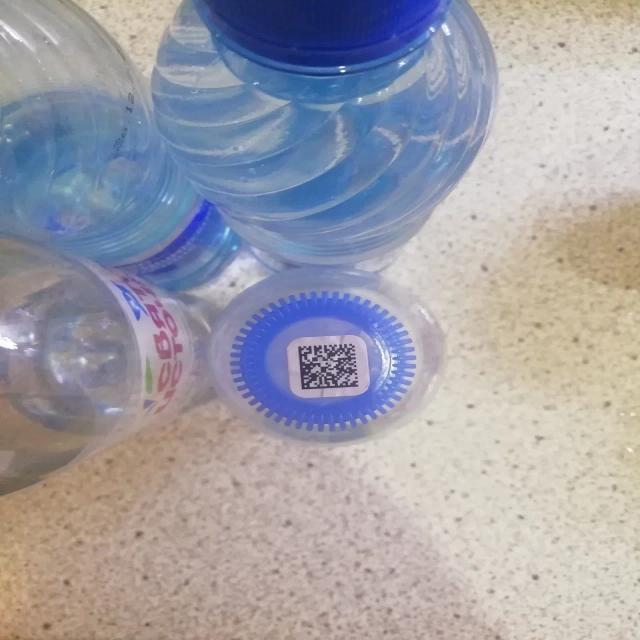datamatrix: (298, 342, 364, 393)
